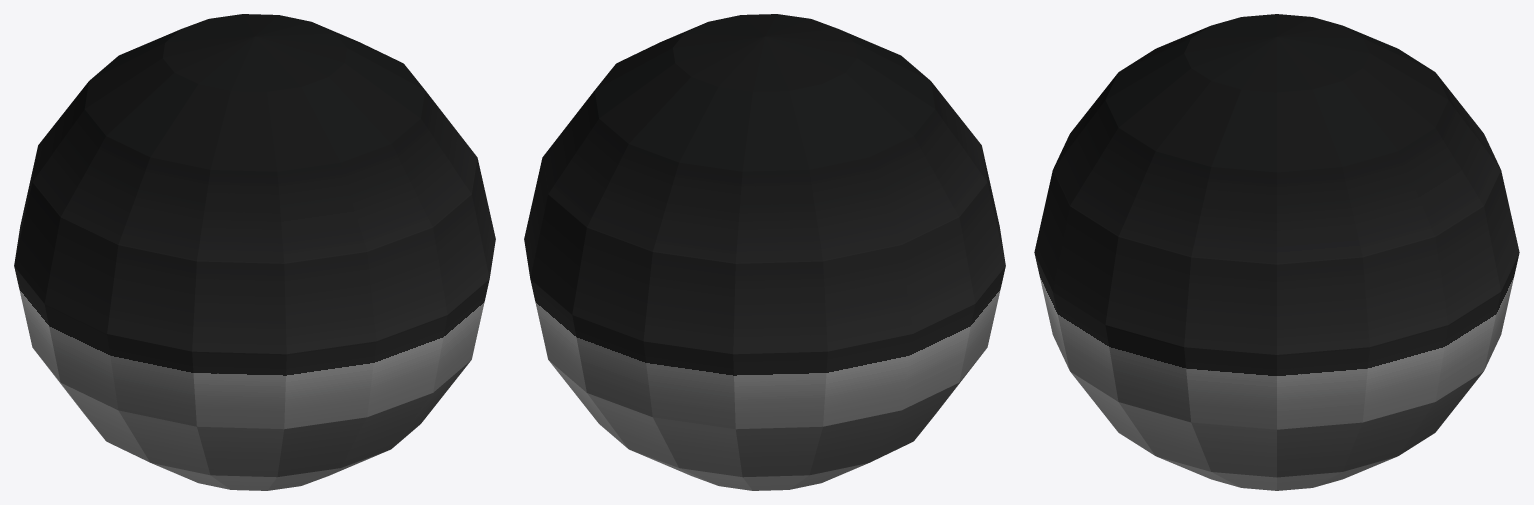
File: Skybox.gltf
3 views of the same model, side by side, from view 1: azimuth 30°, elevation 25°; view 2: azimuth 150°, elevation 25°; view 3: azimuth 270°, elevation 25° (orthographic).
Parts seen in each view (by area): view 1: gradient; view 2: gradient; view 3: gradient.
Boxes of the visible parts, <box> form: gradient: <box>14,14,495,490</box>; gradient: <box>524,14,1005,490</box>; gradient: <box>1034,14,1519,490</box>.
Size of the model in its own units: 102 by 100 by 102.
Materials: 1 (1 with a texture image).
